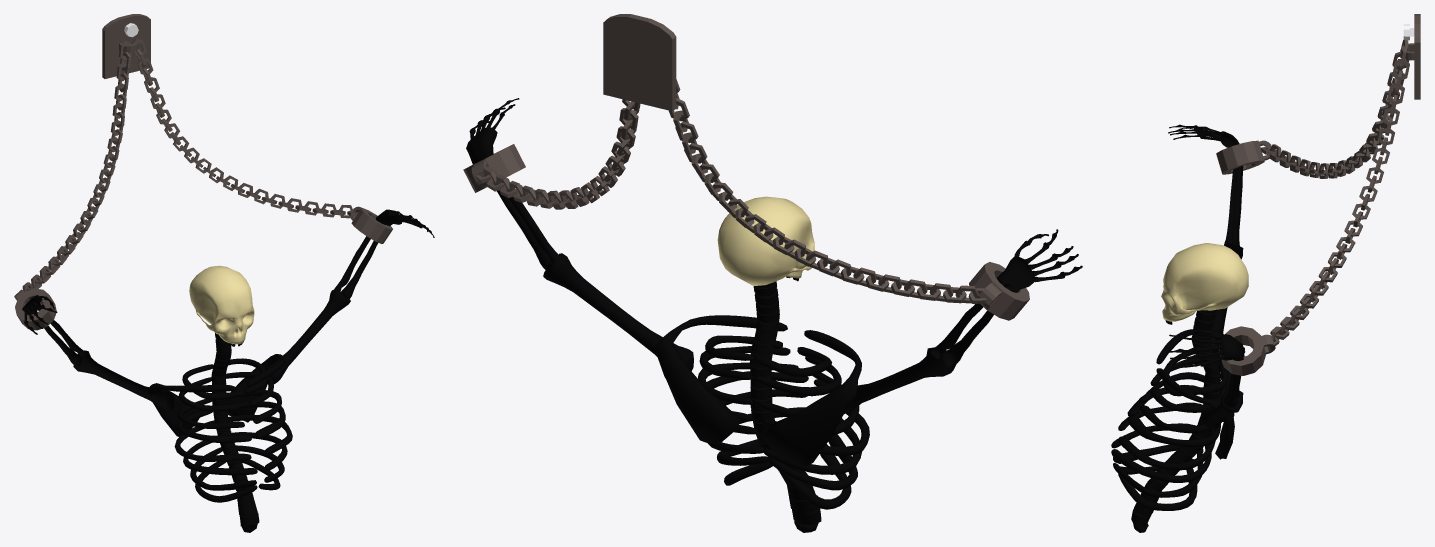
File: SkeletorCuffsWithSkeleton.fbx
The picture shows the model from 3 angles, left to right: view 1: azimuth 30°, elevation 25°; view 2: azimuth 150°, elevation 25°; view 3: azimuth 270°, elevation 25°; orthographic projection. The views are drawn at different scales.
Visible parts, largest first — view 1: Cube.012; view 2: Cube.012; view 3: Cube.012.
Boxes of the visible parts, left/top/right/bottom form: Cube.012: left=14, top=14, right=434, bottom=532; Cube.012: left=463, top=14, right=1082, bottom=532; Cube.012: left=1111, top=14, right=1420, bottom=532.
Bounding box in the file's own units: 103 × 106 × 58.46.
